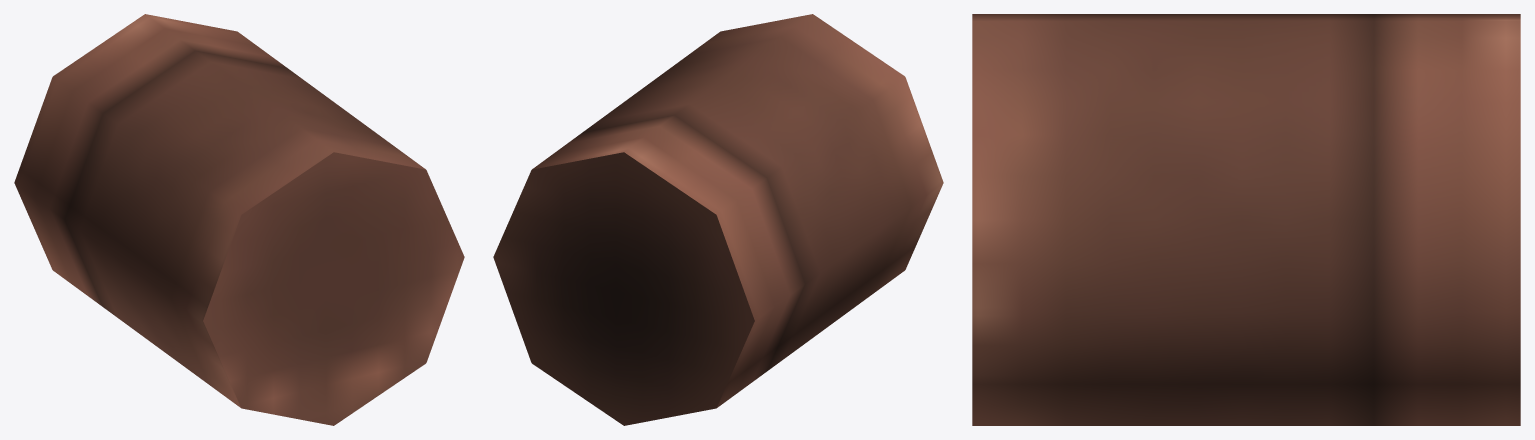
File: octans_whip_antenna_srf_2_base.obj
3 renders of one model, left to right at view 1: azimuth 30°, elevation 25°; view 2: azimuth 150°, elevation 25°; view 3: azimuth 270°, elevation 25°, orthographic. The views are drawn at different scales.
Parts seen in each view (by area): view 1: mesh1; view 2: mesh1; view 3: mesh1.
Part boxes in pixels (x1,y1,x2,y2): mesh1: [14, 14, 464, 425]; mesh1: [493, 14, 943, 425]; mesh1: [972, 14, 1520, 425].
Size of the model in its own units: 0.05 by 0.05 by 0.0625.
1 material, 1 textured.
